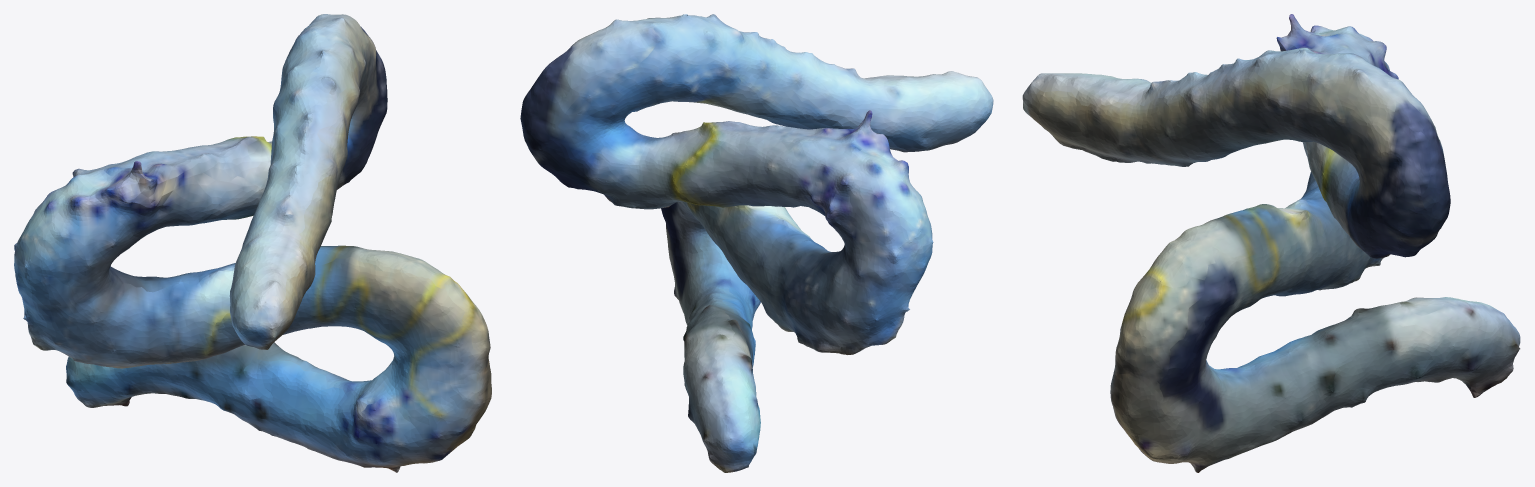
The model's file is SCRIPT.glb.
The picture shows the model from 3 angles, left to right: view 1: azimuth 30°, elevation 25°; view 2: azimuth 150°, elevation 25°; view 3: azimuth 270°, elevation 25°; orthographic projection. The views are drawn at different scales.
Parts seen in each view (by area): view 1: mesh; view 2: mesh; view 3: mesh.
Part boxes in pixels (x1,y1,x2,y2): mesh: (14, 14, 491, 472); mesh: (520, 14, 993, 472); mesh: (1022, 14, 1520, 472).
Bounding box in the file's own units: 0.1112 × 0.1056 × 0.1153.
1 material, 1 textured.
